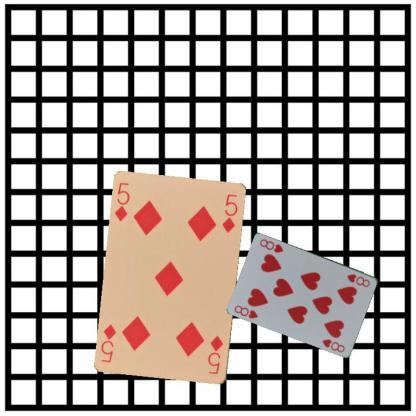5d: (205, 334, 225, 376), (112, 180, 131, 223)
8h: (344, 270, 372, 288), (232, 302, 259, 320)
